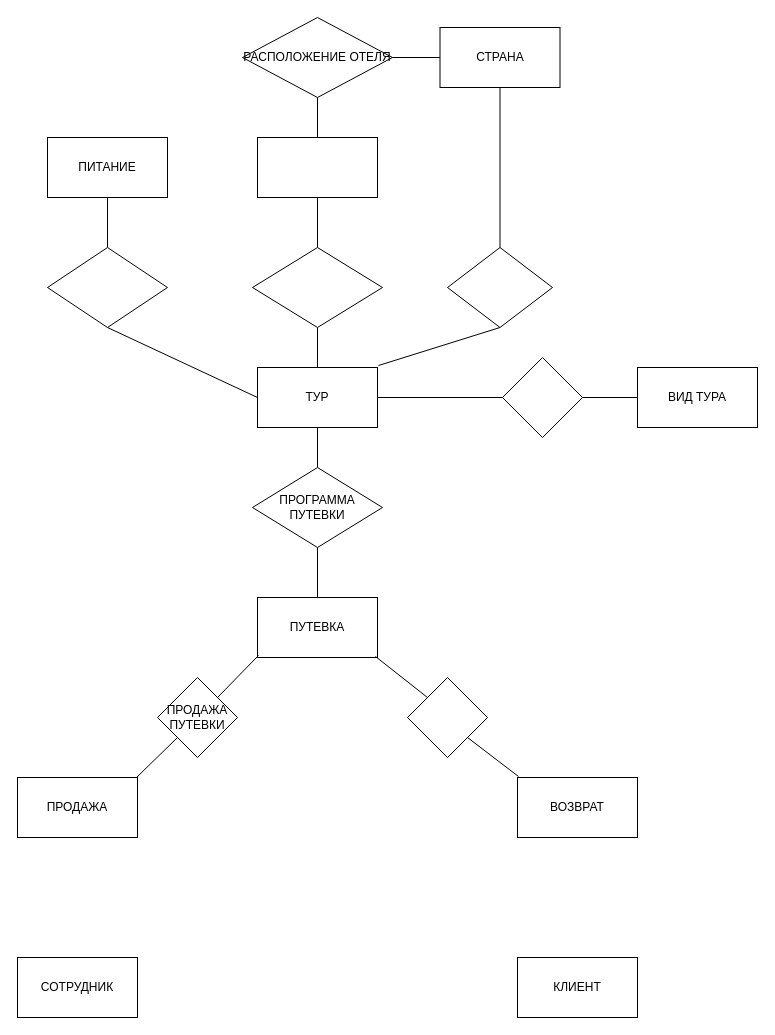
Image size: 775x1035. Some labels were removed from this diagram. The shapes that lost their labels are listed below. From the top down, each one's centre as x and y in pixels, then its label:
At pixel 317 167: "ОТЕЛЬ".
At pixel 107 287: "ПИТАНИЕ В ТУРЕ".
At pixel 317 287: "МЕСТО ПРОЖИВАНИЯ".
At pixel 499 287: "СТРАНА ПОСЕЩЕНИЯ".
At pixel 542 397: "ЦЕЛЬ ТУРА".
At pixel 447 717: "ВОЗВРАТ ПУТЕВКИ".
